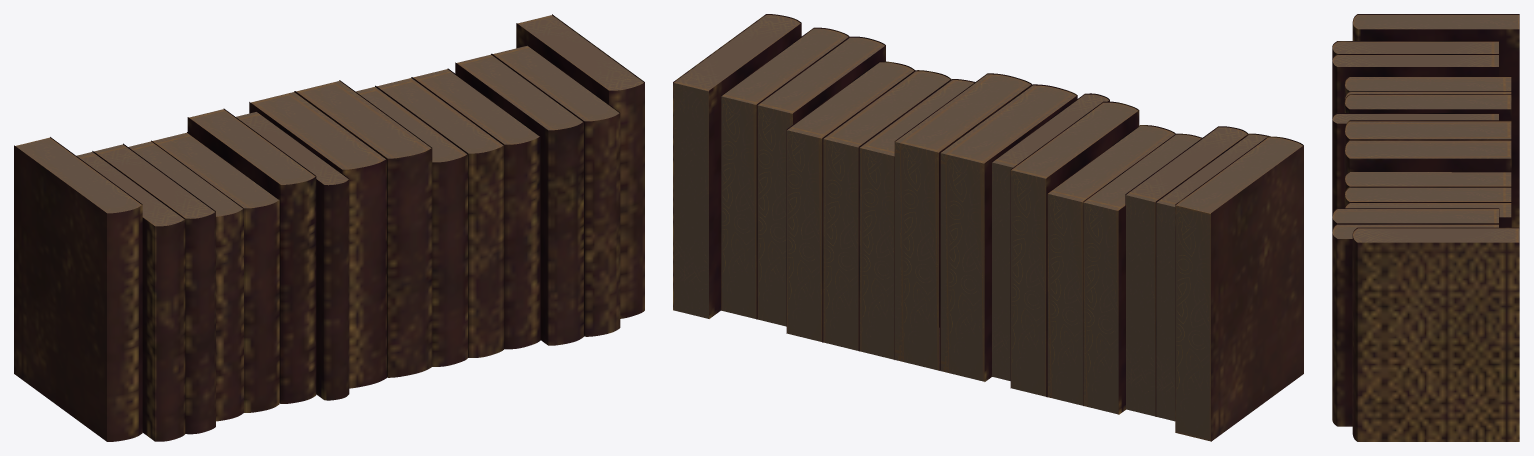
The model's file is Bookfile5.fbx.
3 views of the same model, side by side, from view 1: azimuth 30°, elevation 25°; view 2: azimuth 150°, elevation 25°; view 3: azimuth 270°, elevation 25° (orthographic). The views are drawn at different scales.
Parts seen in each view (by area): view 1: SM_BookPile4_LOD0; view 2: SM_BookPile4_LOD0; view 3: SM_BookPile4_LOD0.
Boxes of the visible parts, x1,y1,x2,y2 form: SM_BookPile4_LOD0: (14, 14, 644, 441); SM_BookPile4_LOD0: (673, 14, 1303, 441); SM_BookPile4_LOD0: (1332, 14, 1519, 441).
Size of the model in its own units: 109 by 44.35 by 37.76.
